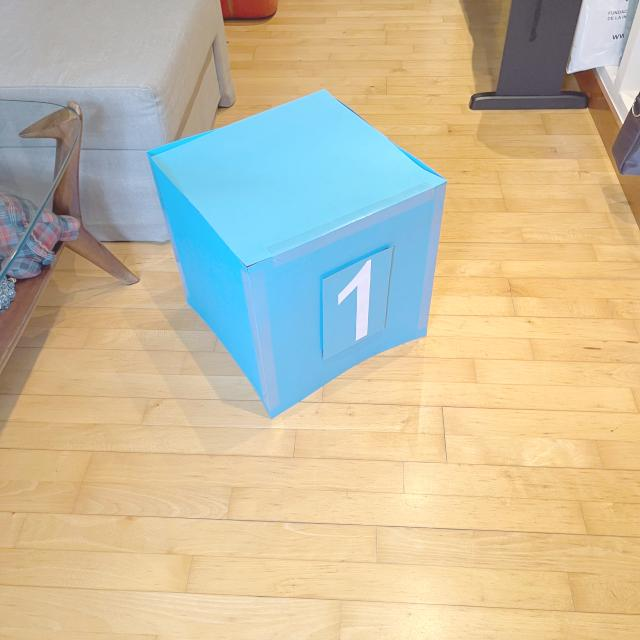box: (142, 85, 450, 421)
